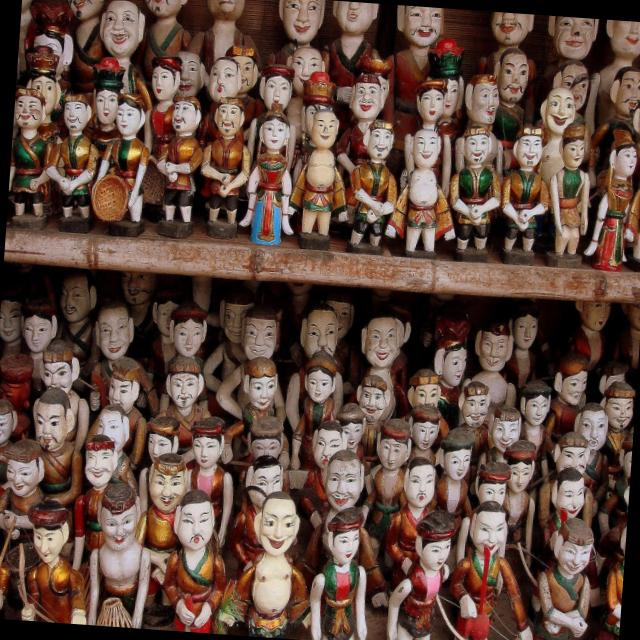Toy: (0, 263, 640, 640), (5, 0, 640, 273)
